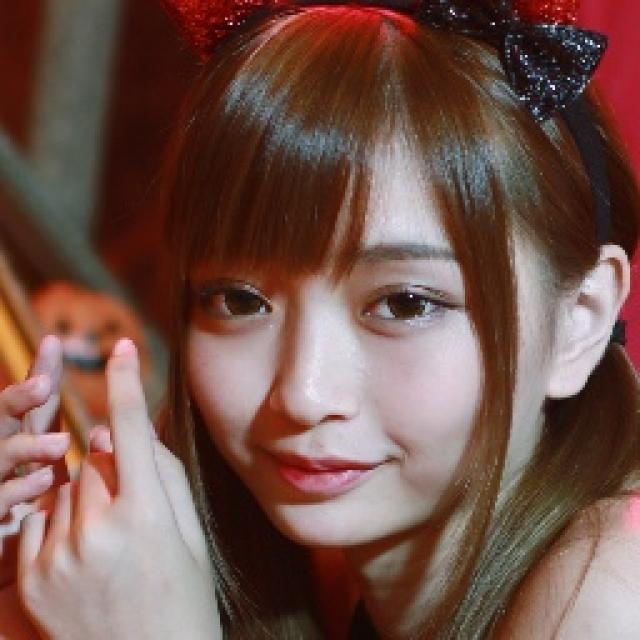earlobe: (552, 365, 590, 397)
eye: (362, 290, 453, 320), (194, 286, 274, 318)
nose: (268, 406, 370, 446)
wholeear: (549, 246, 629, 398)
